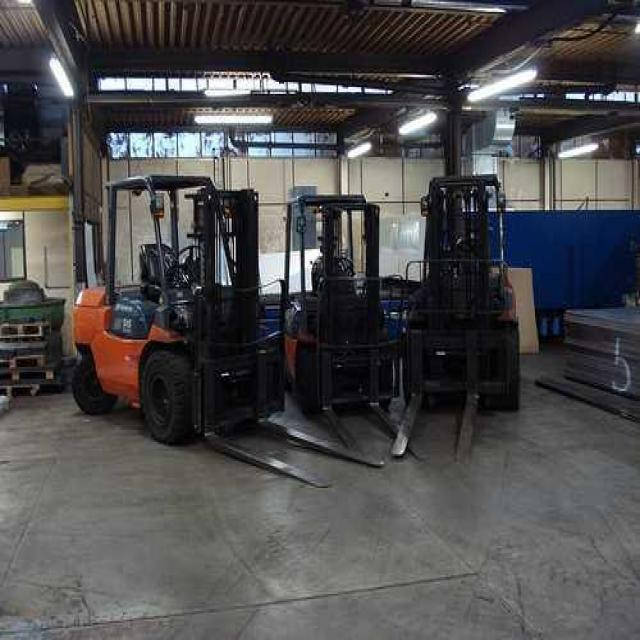Chariot elevateur: (71, 174, 386, 490), (278, 193, 428, 464), (390, 172, 522, 464)
